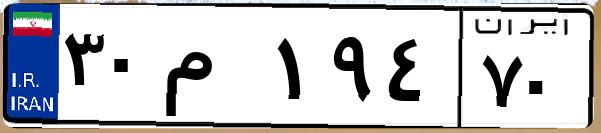0: (525, 38, 570, 115), (110, 28, 158, 98)
1: (270, 28, 330, 110)
3: (57, 26, 110, 100)
4: (385, 28, 445, 110)
7: (475, 38, 525, 113)
9: (330, 28, 385, 110)
م: (158, 20, 270, 120)
